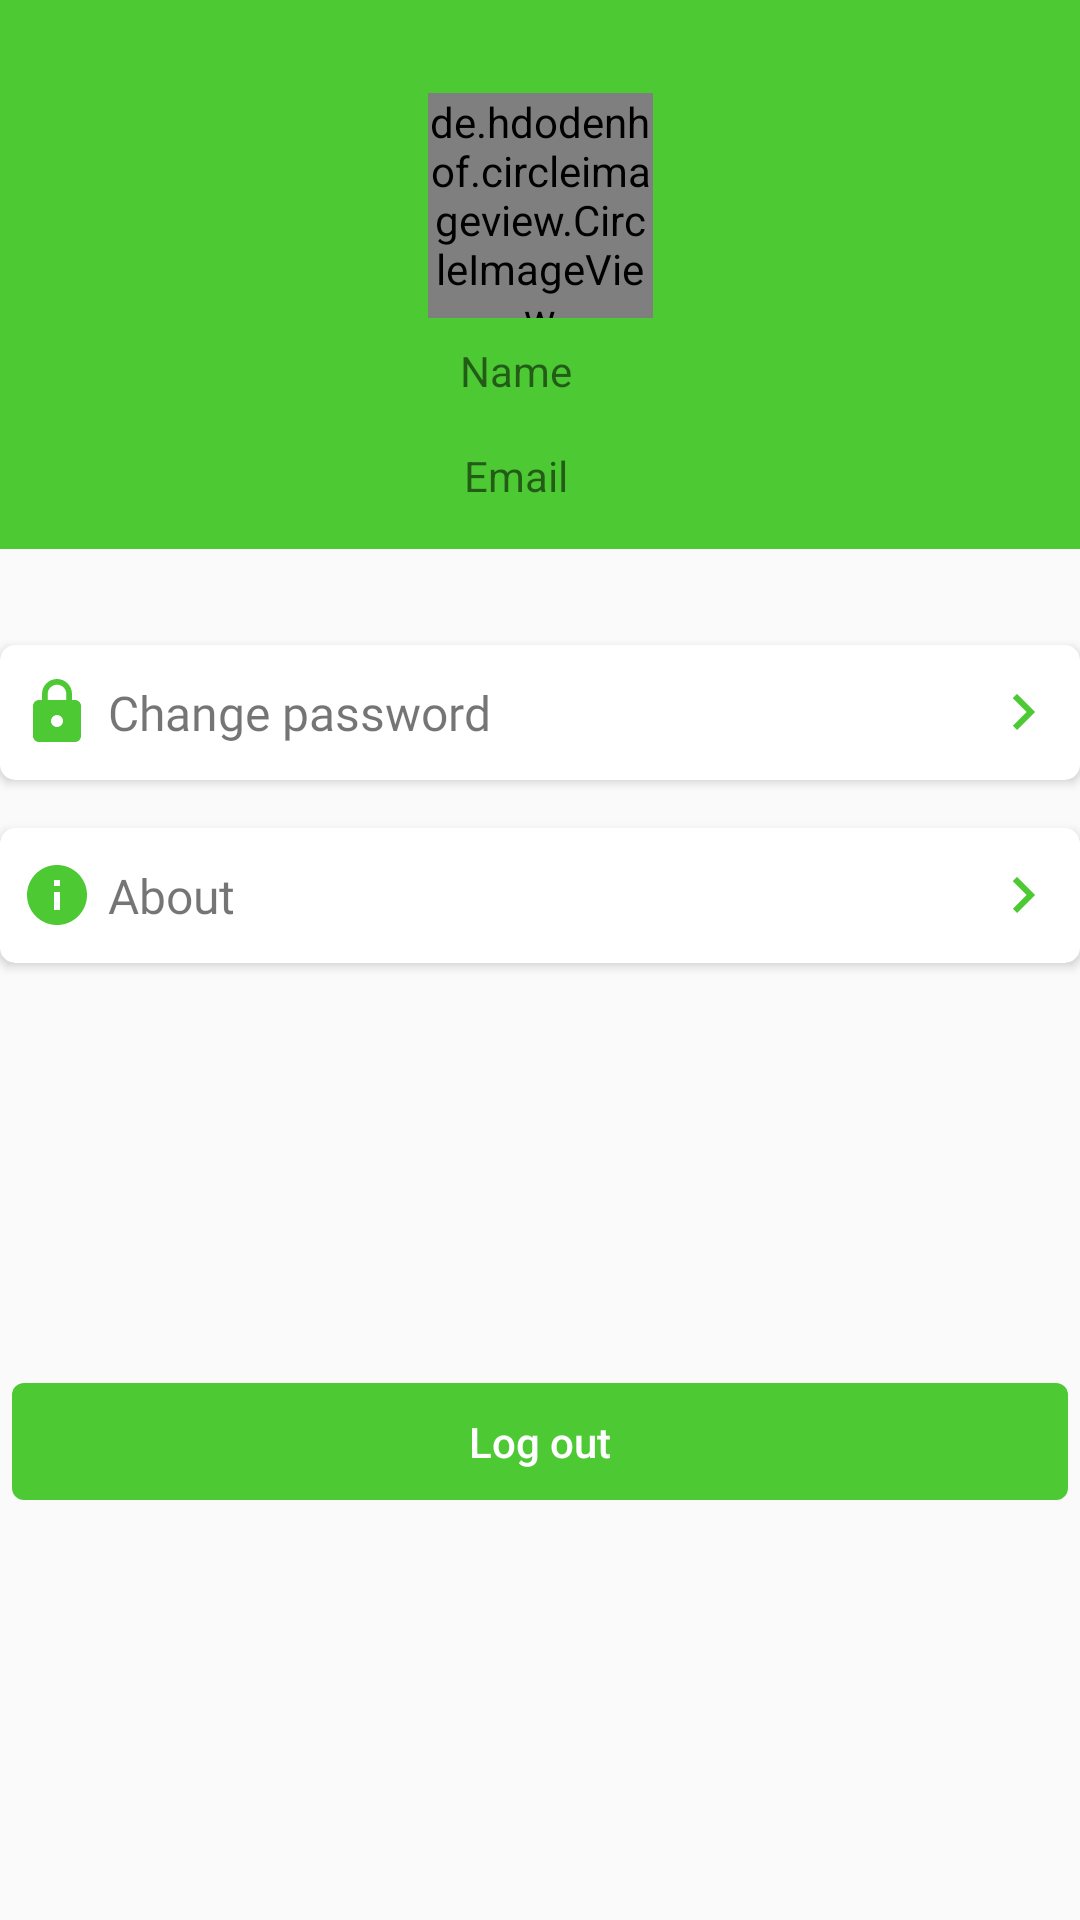

Where icons sit on this 1080x1920 app screen, as (x1, y1, x2, y2):
arrow: (1013, 694, 1035, 730), (1013, 877, 1035, 913)
info: (27, 865, 87, 925)
lock: (33, 679, 81, 742)
